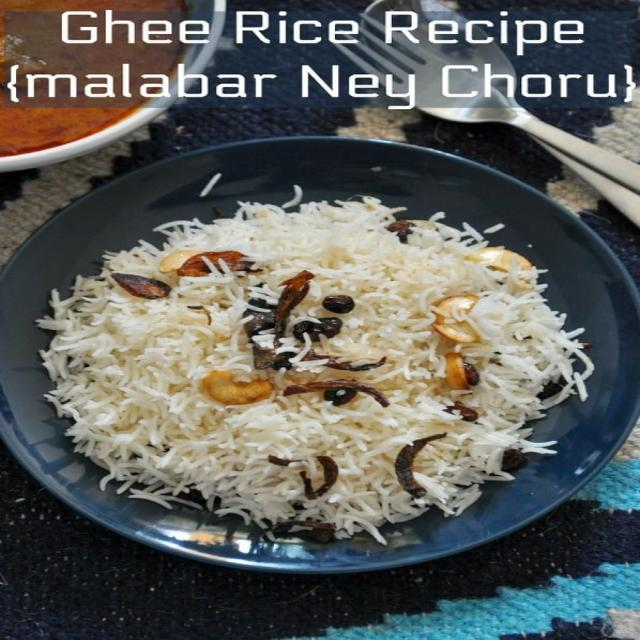nei satham: (35, 165, 565, 565)
